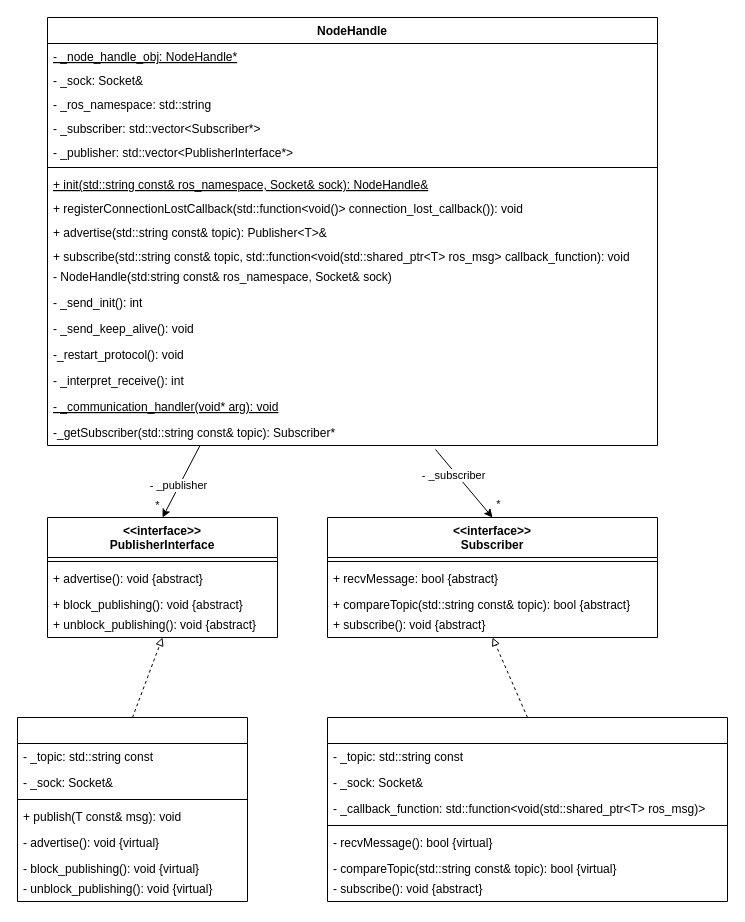
The diagram is 745 pixels wide and 922 high, and some of its shapes have lost their labels. The shapes that lost their labels are listed below. From the top down, each one's box as (x1, y1, x2, y2) in pixels, then its label:
(16, 716, 248, 902): Publisher
(326, 716, 728, 902): SubscriberImpl
